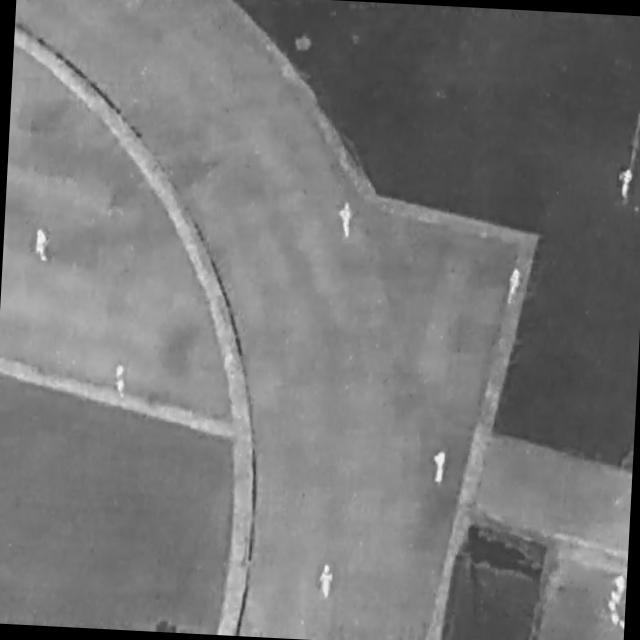person: (110, 360, 132, 403), (337, 198, 359, 241), (504, 264, 523, 310), (33, 226, 52, 267), (317, 563, 337, 601), (618, 166, 635, 208), (432, 449, 449, 486)
